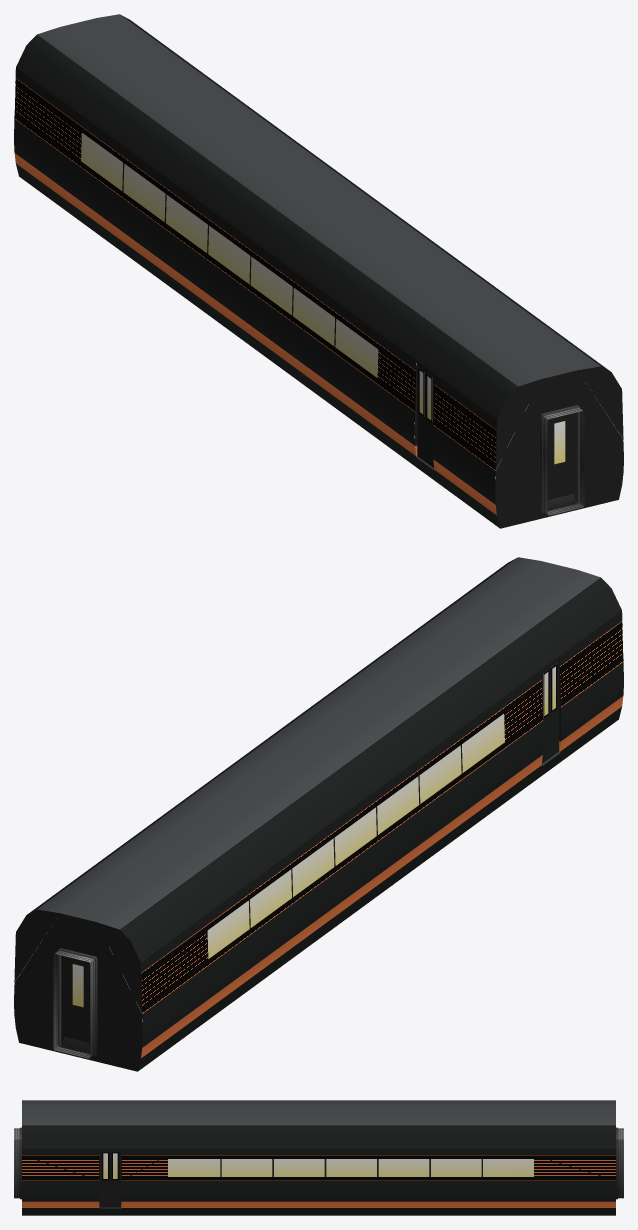
The picture shows the model from 3 angles, top to bottom: view 1: azimuth 30°, elevation 25°; view 2: azimuth 150°, elevation 25°; view 3: azimuth 270°, elevation 25°; orthographic projection. The views are drawn at different scales.
Visible parts, largest first — view 1: UV; view 2: UV; view 3: UV.
Part boxes in pixels (x1=…): UV: x1=14, y1=14, x2=623, y2=528; UV: x1=14, y1=557, x2=623, y2=1071; UV: x1=14, y1=1100, x2=623, y2=1215.
Size of the model in its own units: 6.49 by 6.72 by 43.14.
11 materials, 11 textured.
